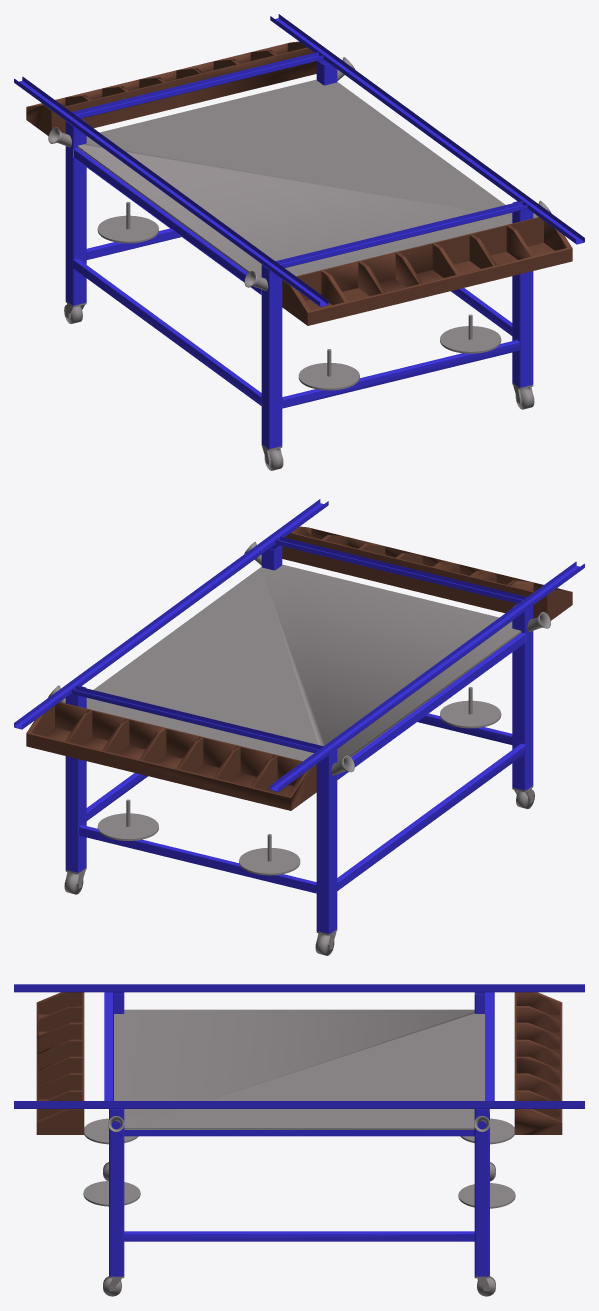
File: WorkBenchLegs.fbx
The picture shows the model from 3 angles, top to bottom: view 1: azimuth 30°, elevation 25°; view 2: azimuth 150°, elevation 25°; view 3: azimuth 270°, elevation 25°; orthographic projection. The views are drawn at different scales.
Parts seen in each view (by area): view 1: WorkBenchLegs; view 2: WorkBenchLegs; view 3: WorkBenchLegs.
Part boxes in pixels (box(x1,y1,x2,y2)): WorkBenchLegs: box(14, 14, 584, 470); WorkBenchLegs: box(14, 499, 584, 955); WorkBenchLegs: box(14, 984, 584, 1296).
Size of the model in its own units: 371 by 242 by 649.
